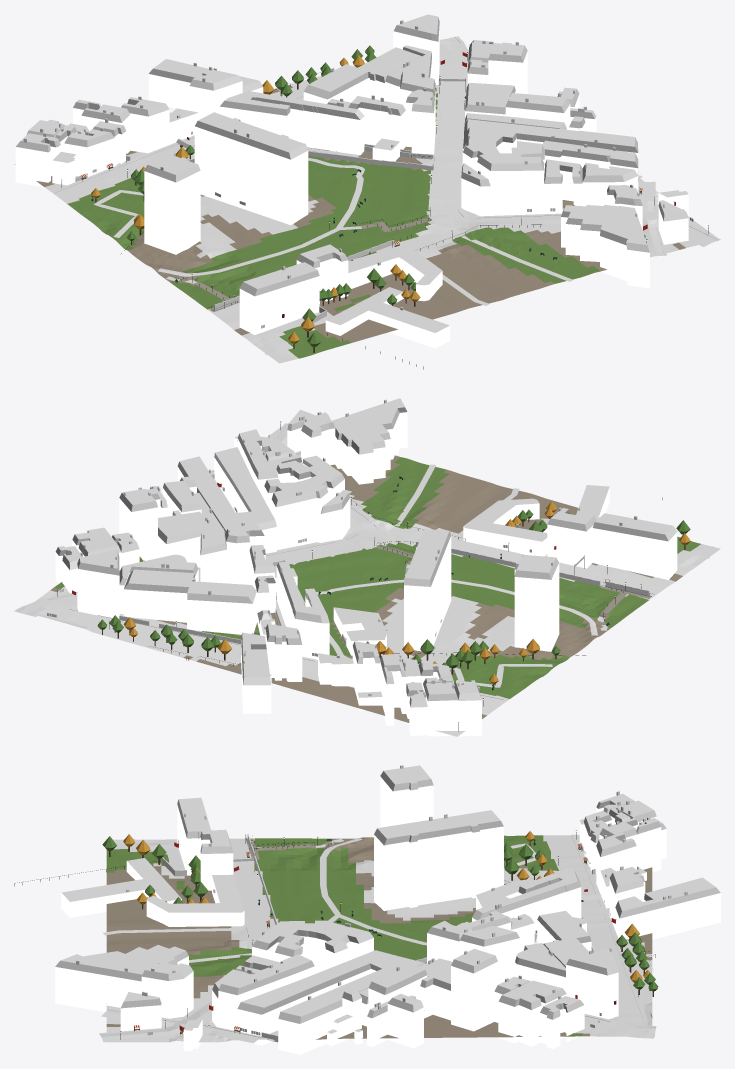
File: zone_J4.glb
The picture shows the model from 3 angles, top to bottom: view 1: azimuth 30°, elevation 25°; view 2: azimuth 150°, elevation 25°; view 3: azimuth 270°, elevation 25°; orthographic projection. The views are drawn at different scales.
Visible parts, largest first — view 1: zone_J4_batiments, zone_J4_terrain, zone_J4_sol_NOCOL, zone_J4_decor_NOCOL; view 2: zone_J4_batiments, zone_J4_terrain, zone_J4_sol_NOCOL, zone_J4_decor_NOCOL; view 3: zone_J4_batiments, zone_J4_terrain, zone_J4_sol_NOCOL, zone_J4_decor_NOCOL, zone_J4_commune_NOCOL.
Boxes of the visible parts, <box> form: zone_J4_batiments: <box>15,14,688,348</box>; zone_J4_terrain: <box>14,41,715,363</box>; zone_J4_sol_NOCOL: <box>51,36,720,361</box>; zone_J4_decor_NOCOL: <box>61,45,708,369</box>; zone_J4_batiments: <box>55,398,677,736</box>; zone_J4_terrain: <box>31,426,720,736</box>; zone_J4_sol_NOCOL: <box>14,423,713,710</box>; zone_J4_decor_NOCOL: <box>57,421,690,731</box>; zone_J4_batiments: <box>55,765,720,1054</box>; zone_J4_terrain: <box>106,835,652,1042</box>; zone_J4_sol_NOCOL: <box>99,834,656,1043</box>; zone_J4_decor_NOCOL: <box>14,830,658,1039</box>; zone_J4_commune_NOCOL: <box>134,840,652,1035</box>.
Size of the model in its own units: 213 by 39.56 by 272.
